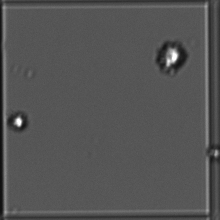Living Cell: (154, 39, 189, 76), (7, 110, 27, 132)
